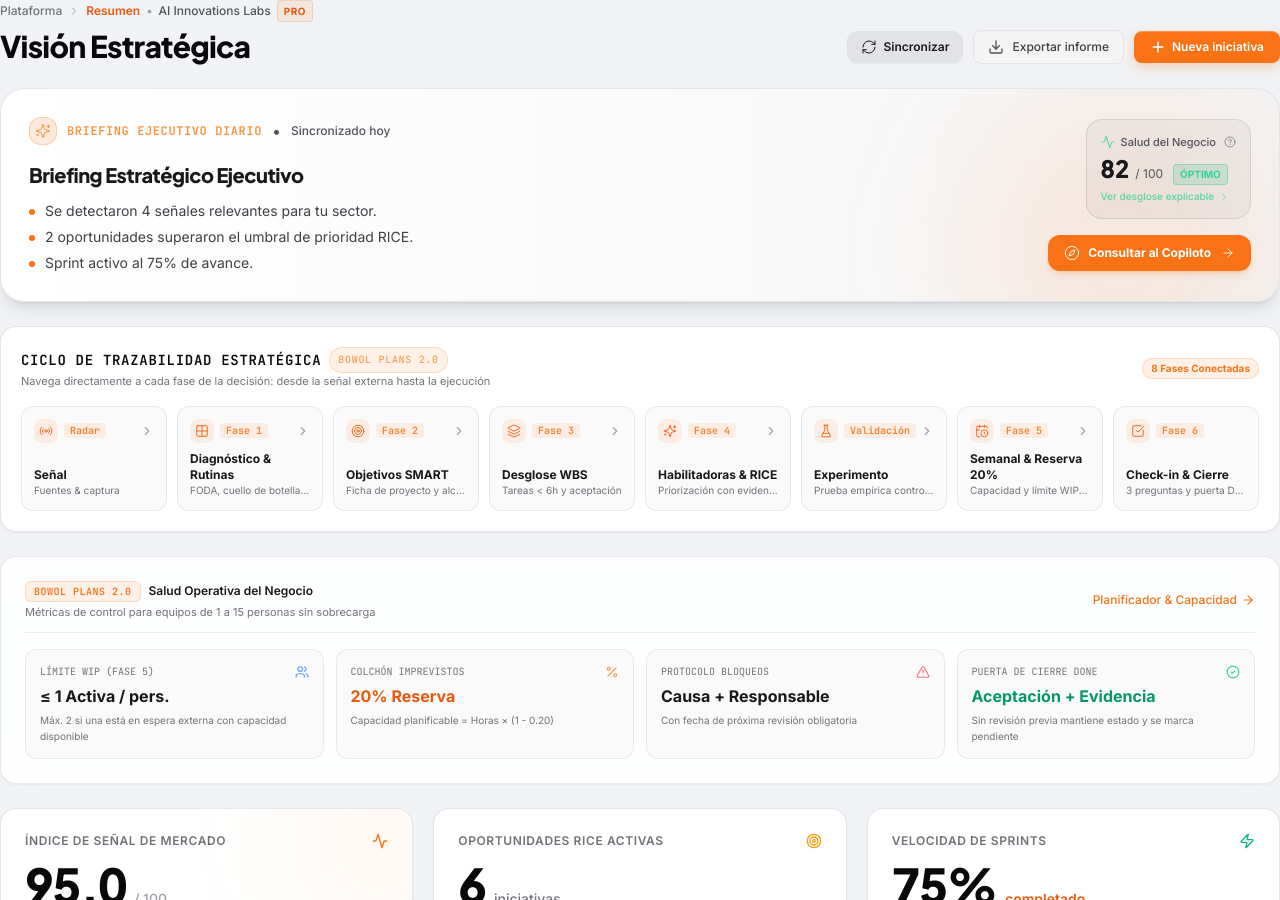
Test: ExecutiveCockpit Component › abre el modal de explicabilidad matemática al hacer click en Salud del Negocio
The width and height of the screenshot is (1280, 900).
What coordinates should you click on to do the following:
click the text "Ver desglose explicable"
I would click on:
 (1157, 197)
Its box is [1100,189,1214,204].
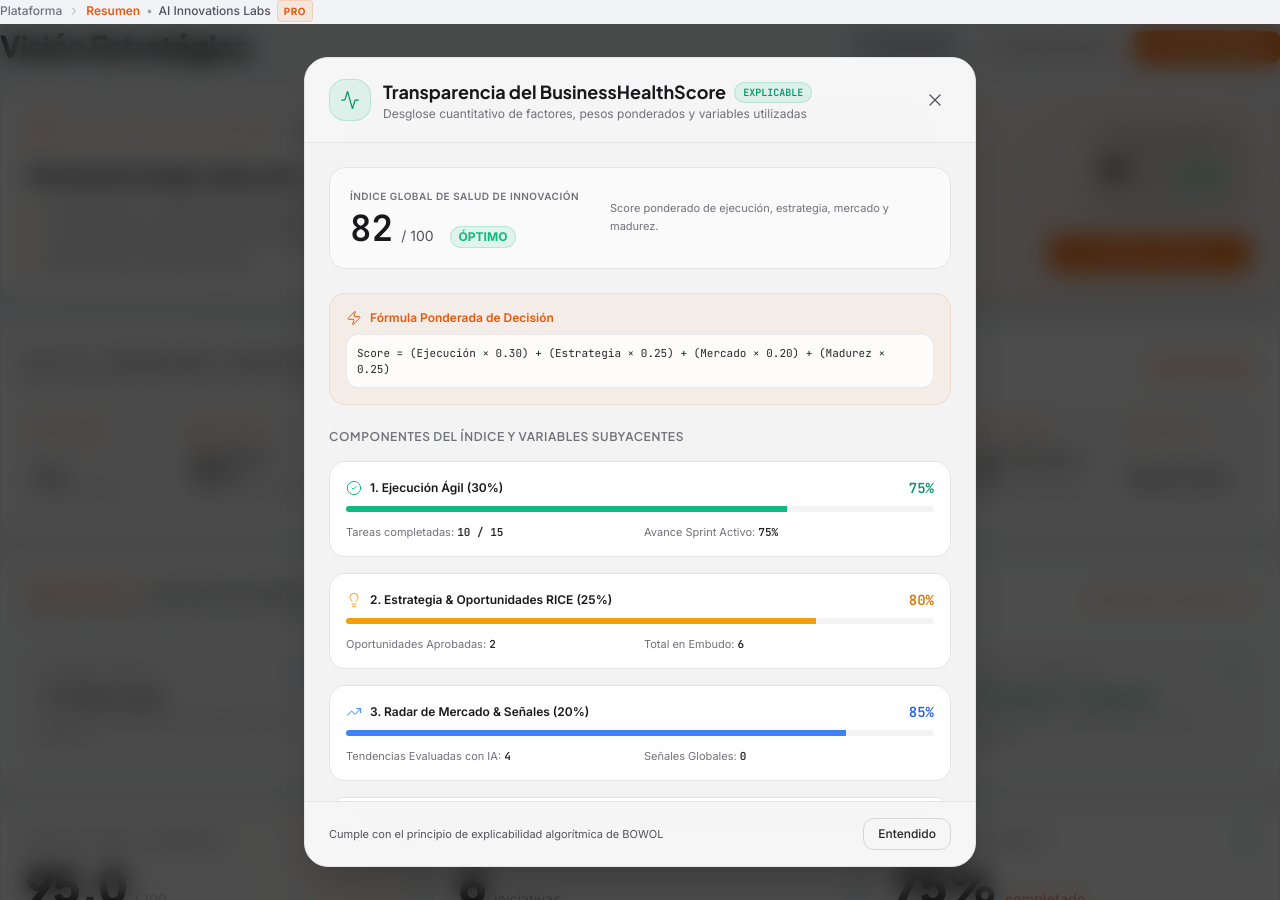
expect the dialog with test id "business-health-modal" is shown: met, box [304,57,976,867]
expect the heading "Transparencia del BusinessHealthScore" is shown: met, box [383,78,726,106]
expect the text "Score = (Ejecución × 0.30) + (Estrategia × 0.25) + (Mercado × 0.20) + (Madurez × 0.25)" is shown: met, box [357,346,885,376]
